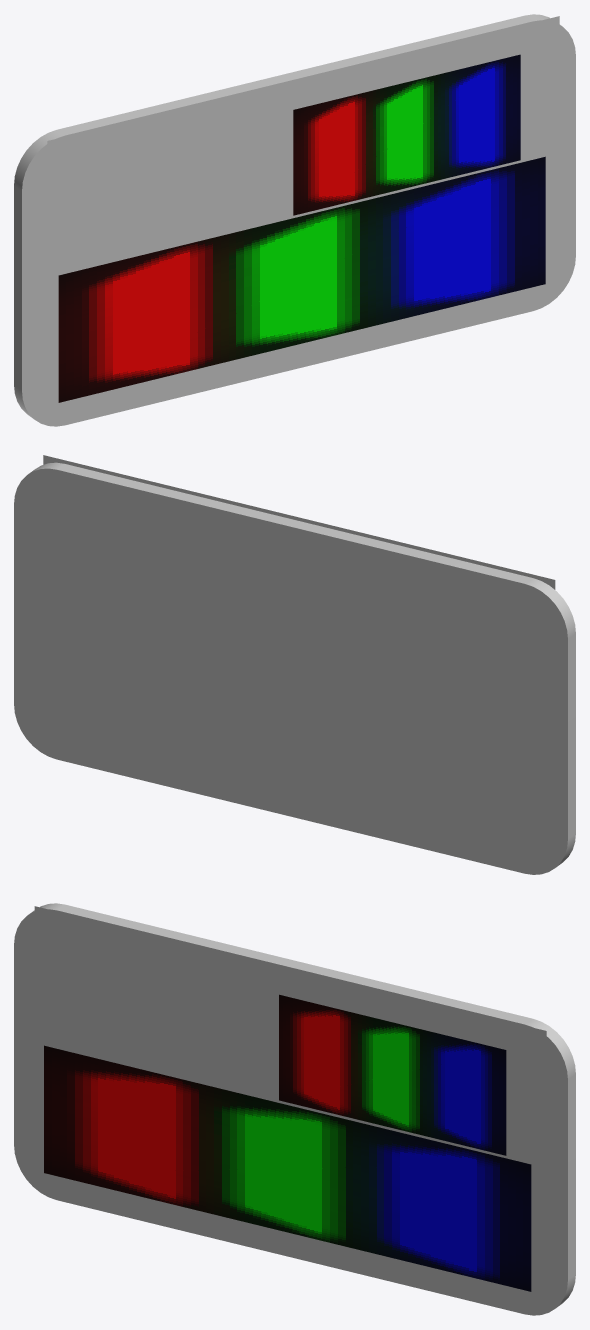
Rendered from Nameplate.fbx.
The picture shows the model from 3 angles, top to bottom: view 1: azimuth 30°, elevation 25°; view 2: azimuth 150°, elevation 25°; view 3: azimuth 330°, elevation 25°; orthographic projection.
Visible parts, largest first — view 1: Namebadge1802Root; view 2: Namebadge1802Root; view 3: Namebadge1802Root.
Boxes of the visible parts, bbox=[...] form: Namebadge1802Root: bbox=[14, 14, 575, 426]; Namebadge1802Root: bbox=[14, 455, 575, 874]; Namebadge1802Root: bbox=[14, 903, 575, 1315].
Bounding box in the file's own units: 0.4 × 0.2008 × 0.014.
